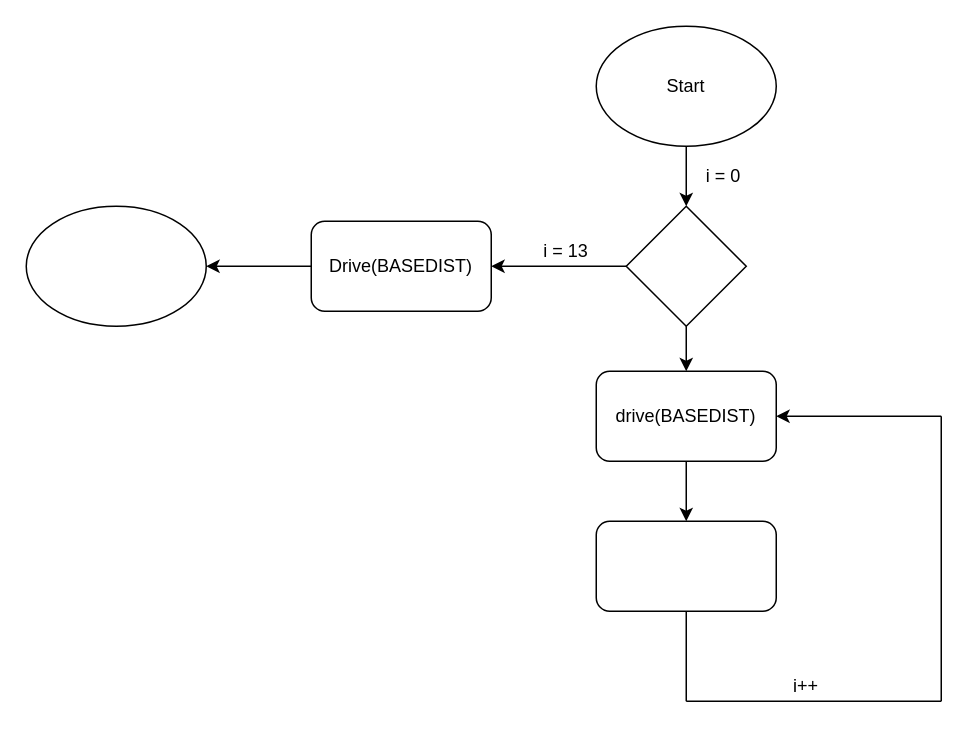
Image size: 980x729. Some labels were removed from this diagram. The shapes that lost their labels are listed below. From the top down, each one's centre as x and y in pixels, then its label:
At (115,265): "Stop".
At (685,565): "turn(90, turnArray[i]);".
